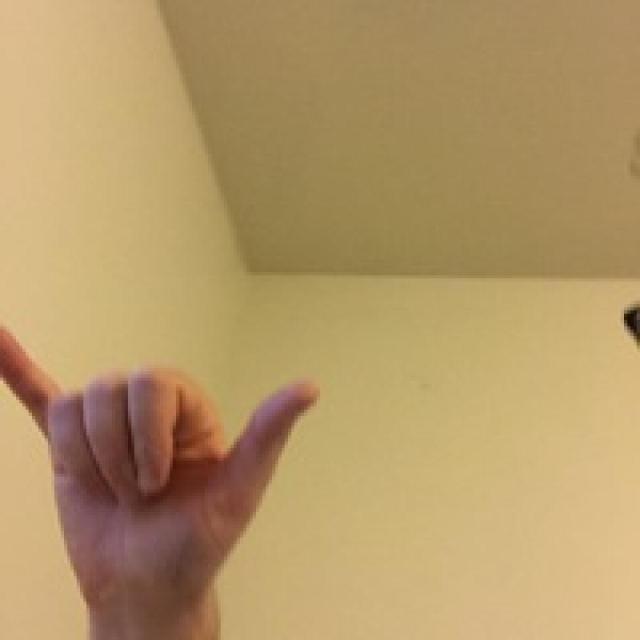Y: (0, 245, 417, 640)
